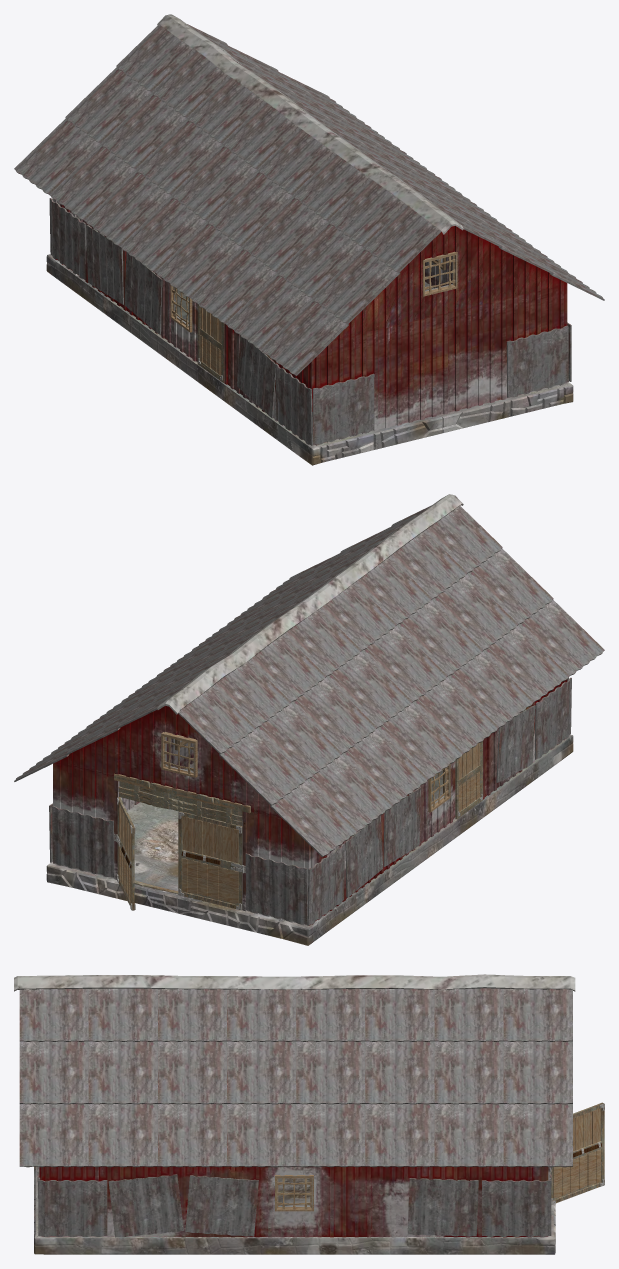
File: barn.glb
The picture shows the model from 3 angles, top to bottom: view 1: azimuth 30°, elevation 25°; view 2: azimuth 150°, elevation 25°; view 3: azimuth 270°, elevation 25°; orthographic projection.
Parts seen in each view (by area): view 1: Barn_Barn_0, Decorations_Decorations_0; view 2: Barn_Barn_0, Decorations_Decorations_0; view 3: Barn_Barn_0, Decorations_Decorations_0.
Boxes of the visible parts, left/top/right/bottom form: Barn_Barn_0: left=14, top=14, right=604, bottom=465; Decorations_Decorations_0: left=170, top=251, right=457, bottom=382; Barn_Barn_0: left=14, top=494, right=604, bottom=945; Decorations_Decorations_0: left=113, top=732, right=482, bottom=910; Barn_Barn_0: left=14, top=974, right=575, bottom=1254; Decorations_Decorations_0: left=275, top=1102, right=604, bottom=1211.
Size of the model in its own units: 13.28 by 9 by 22.25.
Materials: 2 (2 with a texture image).
